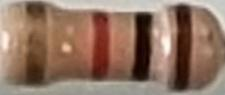Black: (131, 11, 153, 83)
Brown: (172, 3, 194, 91)
Red: (89, 8, 110, 84)
Side-Silver: (23, 1, 50, 89)
